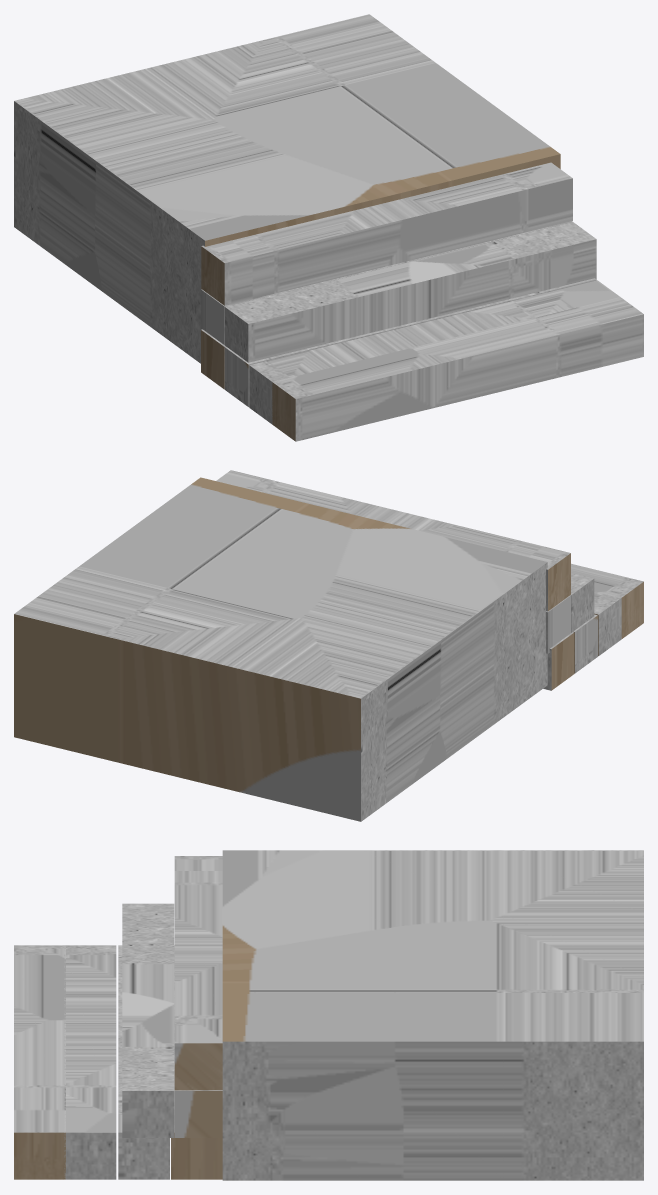
Rendered from stairs.fbx.
3 renders of one model, top to bottom at view 1: azimuth 30°, elevation 25°; view 2: azimuth 150°, elevation 25°; view 3: azimuth 270°, elevation 25°, orthographic. The views are drawn at different scales.
Parts seen in each view (by area): view 1: namas:thestairs; view 2: namas:thestairs; view 3: namas:thestairs.
Part boxes in pixels (box(x1,y1,x2,y2)): namas:thestairs: box(14, 14, 643, 441); namas:thestairs: box(14, 470, 643, 821); namas:thestairs: box(14, 850, 643, 1180).
Size of the model in its own units: 213 by 74.18 by 294.
Materials: 1 (1 with a texture image).
